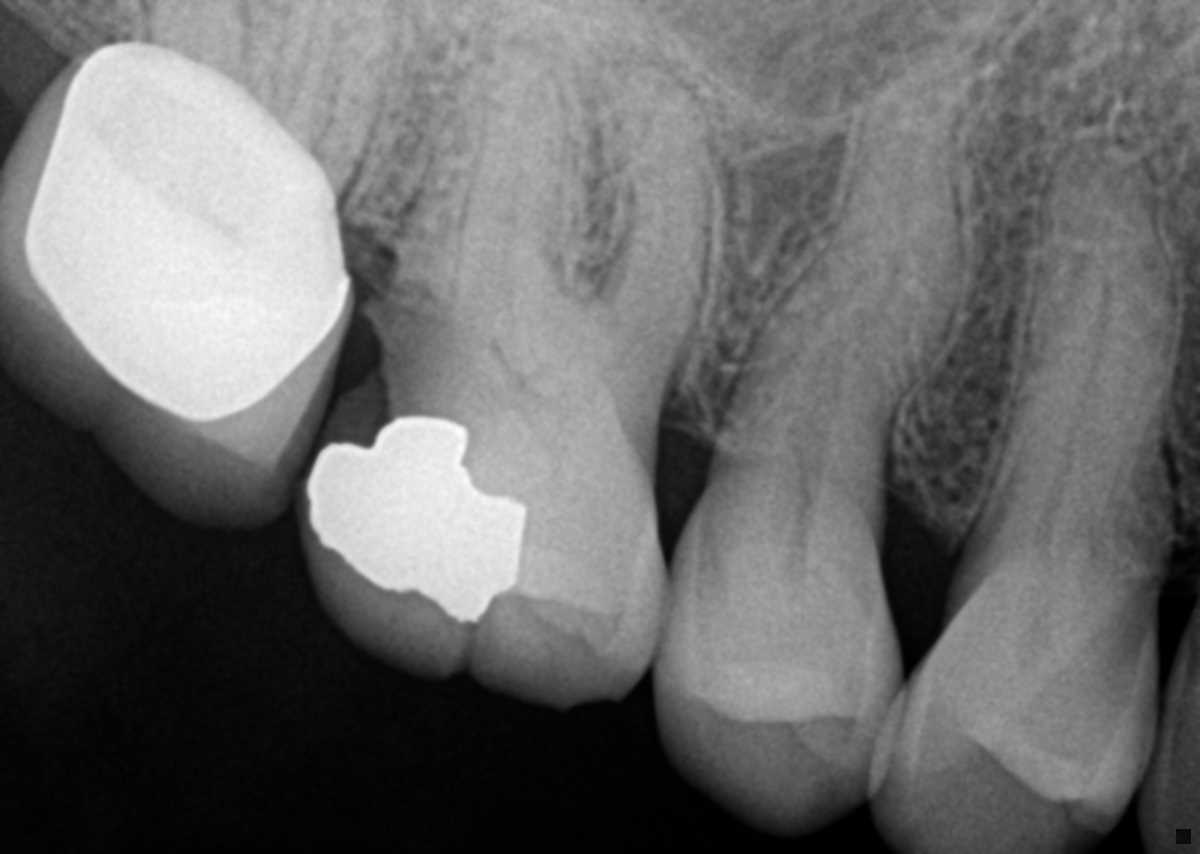Distal Root: (454, 59, 567, 309), (141, 0, 252, 84)
Main Canal: (792, 63, 982, 473), (1038, 267, 1109, 558)
Main Root: (716, 32, 990, 486), (964, 141, 1182, 568)
Mesial Root: (590, 54, 721, 378), (270, 0, 396, 199)
Palatal Root: (380, 0, 608, 410)
decay: (322, 274, 476, 456)
